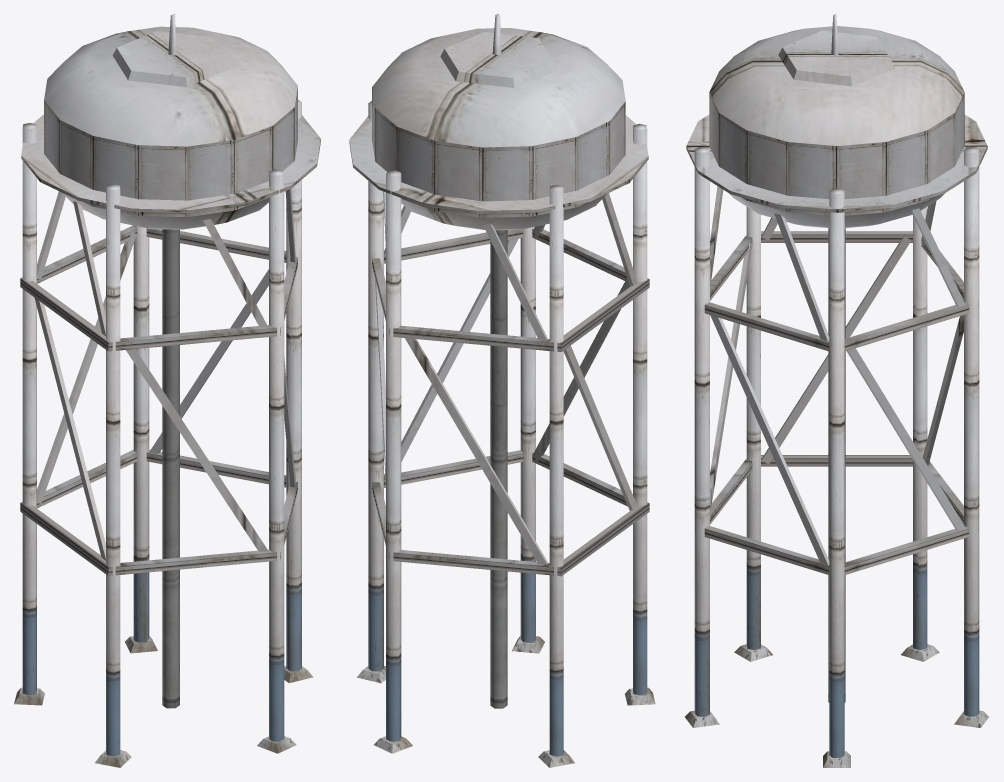
The model's file is tower_water.glb.
3 views of the same model, side by side, from view 1: azimuth 30°, elevation 25°; view 2: azimuth 150°, elevation 25°; view 3: azimuth 270°, elevation 25° (orthographic).
Parts seen in each view (by area): view 1: tower_water; view 2: tower_water; view 3: tower_water.
Part boxes in pixels (x1=…): tower_water: x1=14, y1=14, x2=320, y2=767; tower_water: x1=349, y1=14, x2=655, y2=767; tower_water: x1=685, y1=14, x2=988, y2=767.
Bounding box in the file's own units: 1.05 × 2.6 × 1.04.
Materials: 1 (1 with a texture image).
